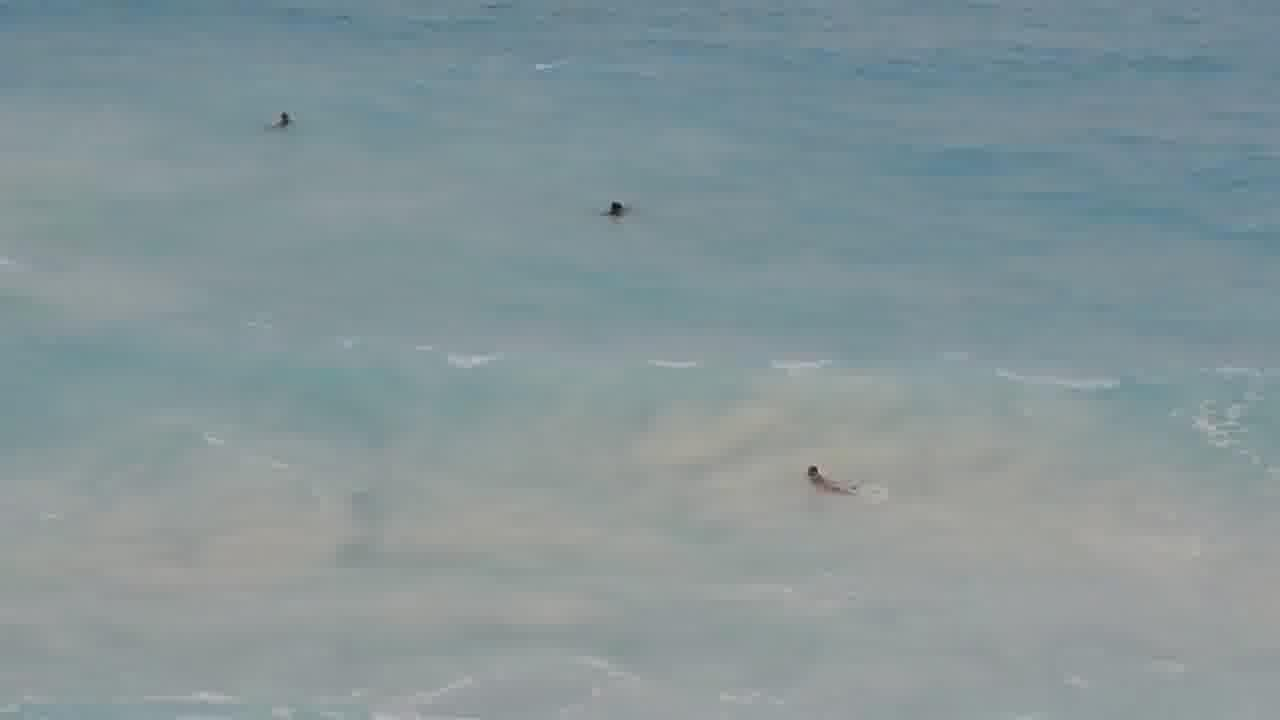human: (791, 458, 853, 492), (597, 192, 642, 217), (269, 105, 298, 128)
